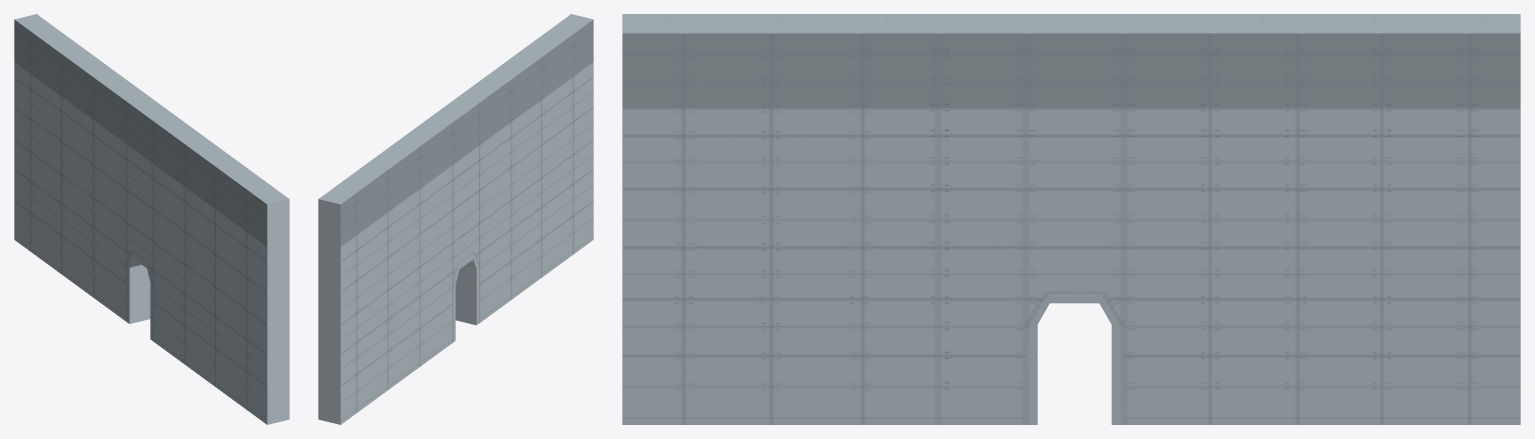
Rendered from wall C.fbx.
3 views of the same model, side by side, from view 1: azimuth 30°, elevation 25°; view 2: azimuth 150°, elevation 25°; view 3: azimuth 270°, elevation 25° (orthographic). The views are drawn at different scales.
Parts seen in each view (by area): view 1: wall; view 2: wall; view 3: wall.
Boxes of the visible parts, x1,y1,x2,y2 form: wall: [14, 14, 289, 424]; wall: [318, 14, 593, 424]; wall: [622, 14, 1520, 424].
Bounding box in the file's own units: 3.22 × 30.44 × 63.27.
1 material, 1 textured.
